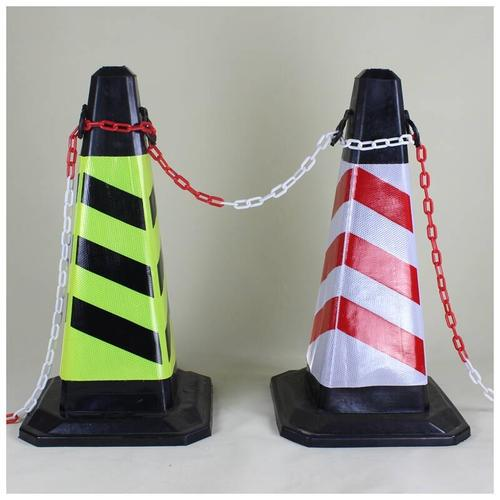cone_barrel: (273, 80, 475, 440), (17, 67, 202, 427)
